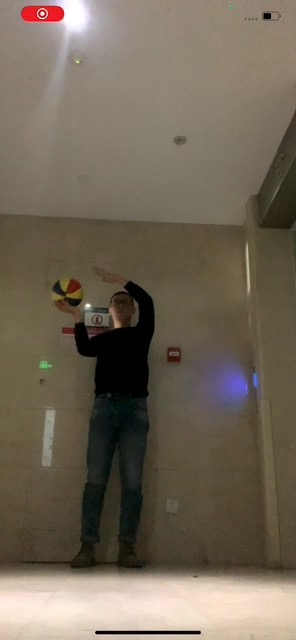ball: (51, 276, 83, 308)
